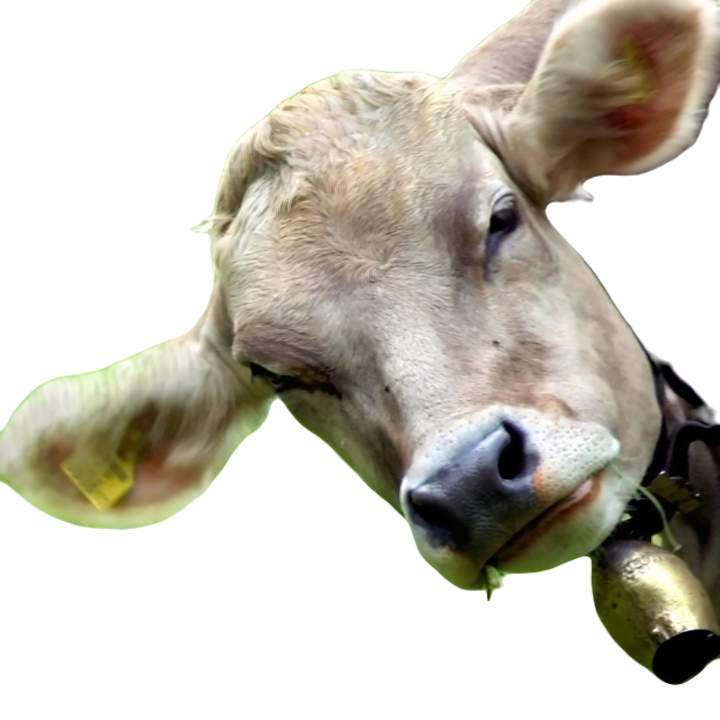Cow: (0, 0, 719, 689)
